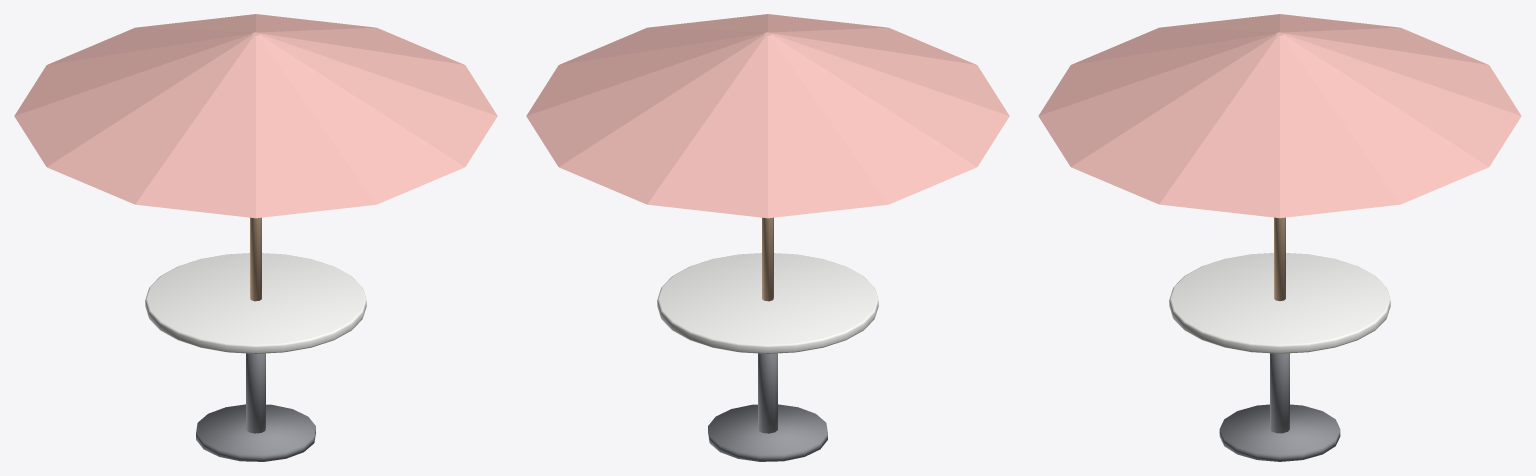
The model's file is mesa_redonda.glb.
The picture shows the model from 3 angles, left to right: view 1: azimuth 30°, elevation 25°; view 2: azimuth 150°, elevation 25°; view 3: azimuth 270°, elevation 25°; orthographic projection.
Visible parts, largest first — view 1: mesa_redonda; view 2: mesa_redonda; view 3: mesa_redonda.
Part boxes in pixels (box(x1,y1,x2,y2)): mesa_redonda: box(14, 14, 497, 461); mesa_redonda: box(526, 14, 1009, 461); mesa_redonda: box(1038, 14, 1521, 461).
Bounding box in the file's own units: 2.4 × 2.2 × 2.4.
